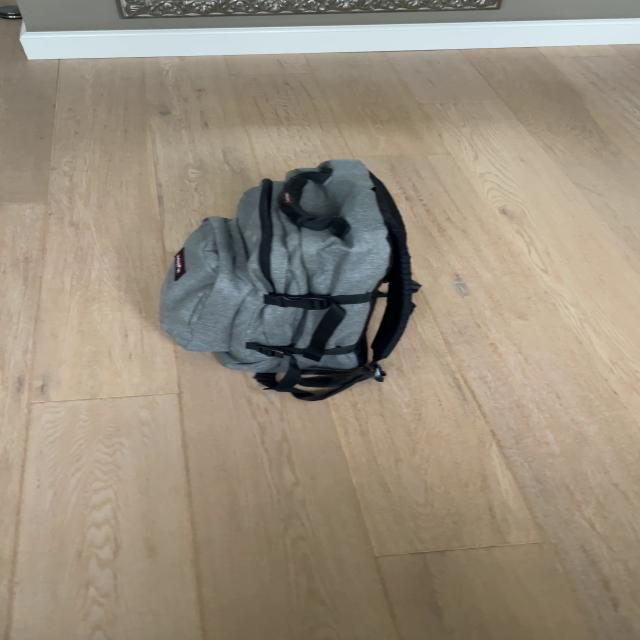backpack: (150, 148, 428, 408)
